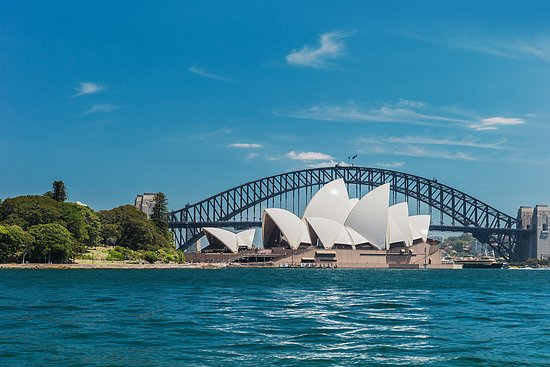opera house: (189, 172, 462, 273)
